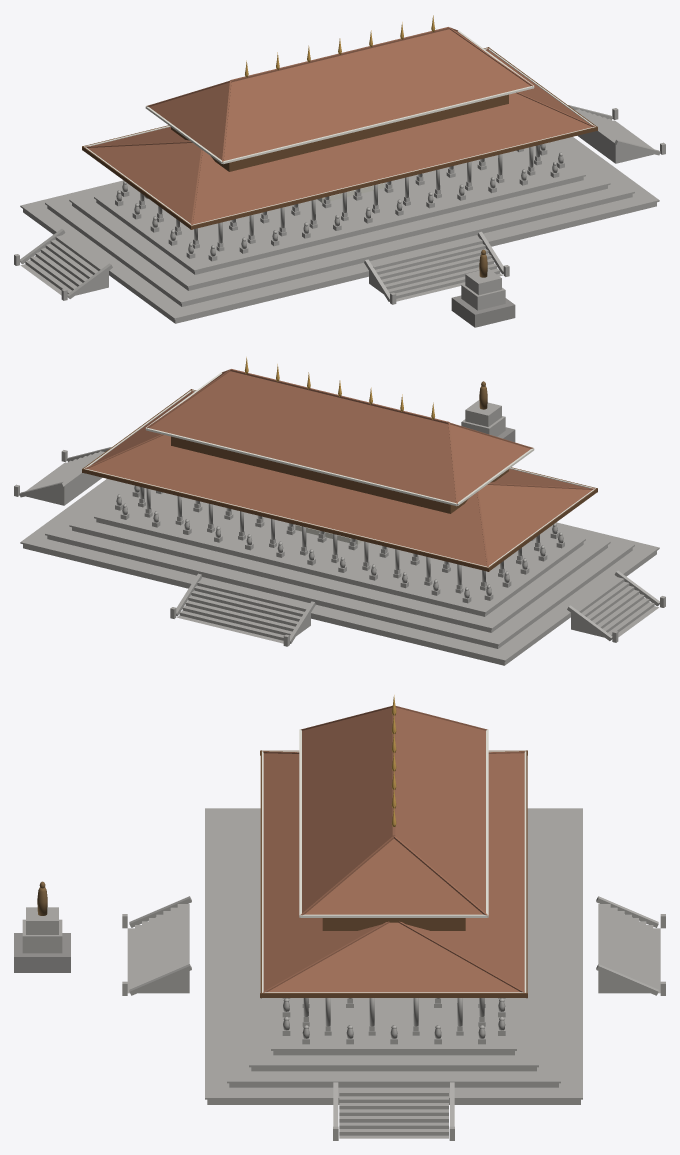
Rendered from independence-hall.glb.
3 renders of one model, top to bottom at view 1: azimuth 30°, elevation 25°; view 2: azimuth 150°, elevation 25°; view 3: azimuth 270°, elevation 25°, orthographic. The views are drawn at different scales.
Parts seen in each view (by area): view 1: 05 Monumental double-tiered Kandyan roof / Terracotta, 01 Four-tiered stepped granite plinth / Kandyan Granite, 02 Four ceremonial stairways and guardstones / Kandyan Grani, 05 Monumental double-tiered Kandyan roof / Kandyan Wood, 05 Monumental double-tiered Kandyan roof / Ivory, 04 Sixty carved Kandyan stone columns / Kandyan Granite, 04 Sixty carved Kandyan stone columns / Kandyan Granite.001, 06 Memorial chamber and D. S. Senanayake statue / Kandyan Gr, 06 Memorial chamber and D. S. Senanayake statue / Granite Ba, 03 Sixty carved guardian lions (Singha) / Kandyan Granite.00, 03 Sixty carved guardian lions (Singha) / Kandyan Granite; view 2: 05 Monumental double-tiered Kandyan roof / Terracotta, 01 Four-tiered stepped granite plinth / Kandyan Granite, 02 Four ceremonial stairways and guardstones / Kandyan Grani, 05 Monumental double-tiered Kandyan roof / Kandyan Wood, 05 Monumental double-tiered Kandyan roof / Ivory, 04 Sixty carved Kandyan stone columns / Kandyan Granite, 04 Sixty carved Kandyan stone columns / Kandyan Granite.001, 03 Sixty carved guardian lions (Singha) / Kandyan Granite.00, 06 Memorial chamber and D. S. Senanayake statue / Kandyan Gr, 03 Sixty carved guardian lions (Singha) / Kandyan Granite; view 3: 05 Monumental double-tiered Kandyan roof / Terracotta, 01 Four-tiered stepped granite plinth / Kandyan Granite, 02 Four ceremonial stairways and guardstones / Kandyan Grani, 05 Monumental double-tiered Kandyan roof / Kandyan Wood, 05 Monumental double-tiered Kandyan roof / Ivory, 06 Memorial chamber and D. S. Senanayake statue / Kandyan Gr, 06 Memorial chamber and D. S. Senanayake statue / Granite Ba, 04 Sixty carved Kandyan stone columns / Kandyan Granite.001, 03 Sixty carved guardian lions (Singha) / Kandyan Granite.00, 04 Sixty carved Kandyan stone columns / Kandyan Granite.
Part boxes in pixels (x1=…): 05 Monumental double-tiered Kandyan roof / Terracotta: x1=85, y1=27, x2=594, y2=224; 01 Four-tiered stepped granite plinth / Kandyan Granite: x1=20, y1=137, x2=659, y2=323; 02 Four ceremonial stairways and guardstones / Kandyan Grani: x1=14, y1=105, x2=665, y2=304; 05 Monumental double-tiered Kandyan roof / Kandyan Wood: x1=82, y1=47, x2=597, y2=229; 05 Monumental double-tiered Kandyan roof / Ivory: x1=84, y1=30, x2=595, y2=225; 04 Sixty carved Kandyan stone columns / Kandyan Granite: x1=138, y1=149, x2=541, y2=251; 04 Sixty carved Kandyan stone columns / Kandyan Granite.001: x1=140, y1=145, x2=539, y2=243; 06 Memorial chamber and D. S. Senanayake statue / Kandyan Gr: x1=461, y1=268, x2=505, y2=310; 06 Memorial chamber and D. S. Senanayake statue / Granite Ba: x1=451, y1=295, x2=515, y2=327; 03 Sixty carved guardian lions (Singha) / Kandyan Granite.00: x1=116, y1=143, x2=563, y2=256; 03 Sixty carved guardian lions (Singha) / Kandyan Granite: x1=115, y1=149, x2=564, y2=261; 05 Monumental double-tiered Kandyan roof / Terracotta: x1=85, y1=369, x2=594, y2=566; 01 Four-tiered stepped granite plinth / Kandyan Granite: x1=20, y1=479, x2=659, y2=665; 02 Four ceremonial stairways and guardstones / Kandyan Grani: x1=14, y1=447, x2=665, y2=646; 05 Monumental double-tiered Kandyan roof / Kandyan Wood: x1=82, y1=389, x2=597, y2=571; 05 Monumental double-tiered Kandyan roof / Ivory: x1=84, y1=372, x2=595, y2=567; 04 Sixty carved Kandyan stone columns / Kandyan Granite: x1=138, y1=490, x2=541, y2=593; 04 Sixty carved Kandyan stone columns / Kandyan Granite.001: x1=140, y1=487, x2=539, y2=585; 03 Sixty carved guardian lions (Singha) / Kandyan Granite.00: x1=116, y1=485, x2=563, y2=598; 06 Memorial chamber and D. S. Senanayake statue / Kandyan Gr: x1=461, y1=400, x2=505, y2=436; 03 Sixty carved guardian lions (Singha) / Kandyan Granite: x1=115, y1=491, x2=564, y2=603; 05 Monumental double-tiered Kandyan roof / Terracotta: x1=263, y1=705, x2=524, y2=992; 01 Four-tiered stepped granite plinth / Kandyan Granite: x1=205, y1=808, x2=582, y2=1104; 02 Four ceremonial stairways and guardstones / Kandyan Grani: x1=122, y1=896, x2=665, y2=1140; 05 Monumental double-tiered Kandyan roof / Kandyan Wood: x1=260, y1=750, x2=527, y2=998; 05 Monumental double-tiered Kandyan roof / Ivory: x1=262, y1=729, x2=526, y2=992; 06 Memorial chamber and D. S. Senanayake statue / Kandyan Gr: x1=22, y1=907, x2=62, y2=953; 06 Memorial chamber and D. S. Senanayake statue / Granite Ba: x1=14, y1=933, x2=70, y2=972; 04 Sixty carved Kandyan stone columns / Kandyan Granite.001: x1=303, y1=998, x2=484, y2=1026; 03 Sixty carved guardian lions (Singha) / Kandyan Granite.00: x1=283, y1=998, x2=505, y2=1038; 04 Sixty carved Kandyan stone columns / Kandyan Granite: x1=302, y1=998, x2=485, y2=1035.
Size of the model in its own units: 77.5 by 21.2 by 59.35.
